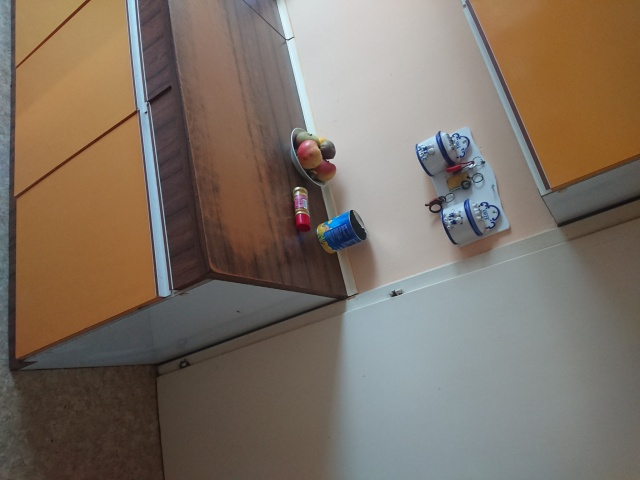Kotanyi Curry Spices Mix 70g: (291, 185, 313, 234)
